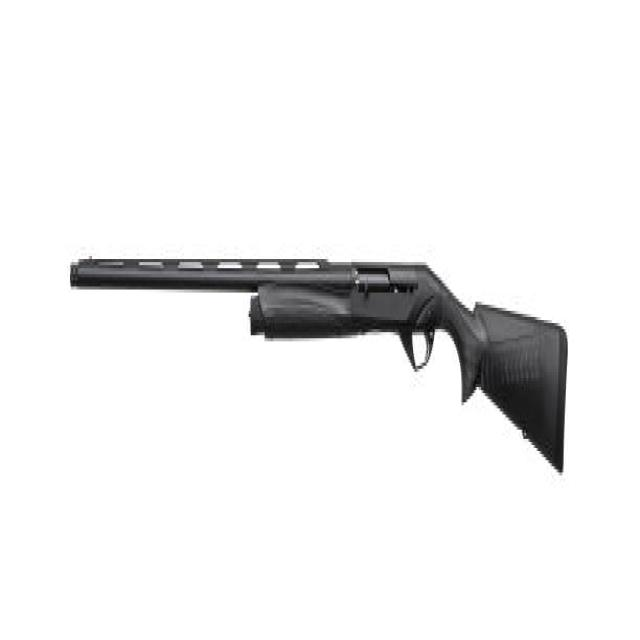rifle: (68, 238, 572, 490)
